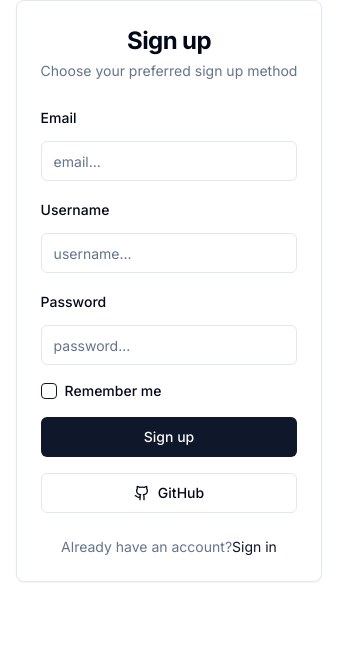
Test: SignUp › shows error message on valid submit, but no user is found
In the field labelled "Email": x=169, y=161 [41,141,297,181], type "test@gmail.com"
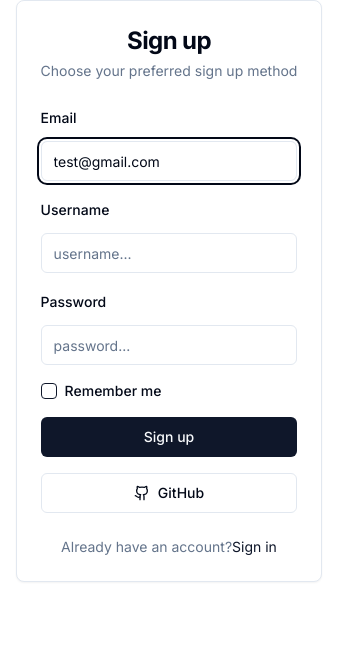
In the field labelled "Username": x=169, y=253 [41,233,297,273], type "test-username"
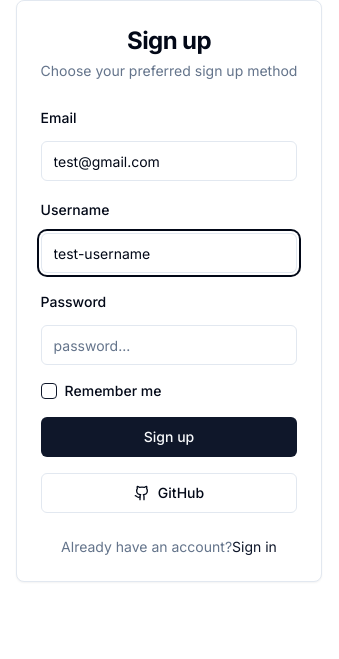
In the password field labelled "Password": x=169, y=345 [41,325,297,365], type "testPass"
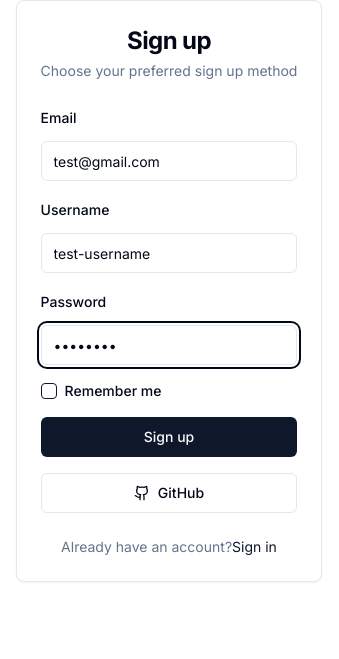
Click the checkbox named "Remember me": x=49, y=391 [41,383,57,399]
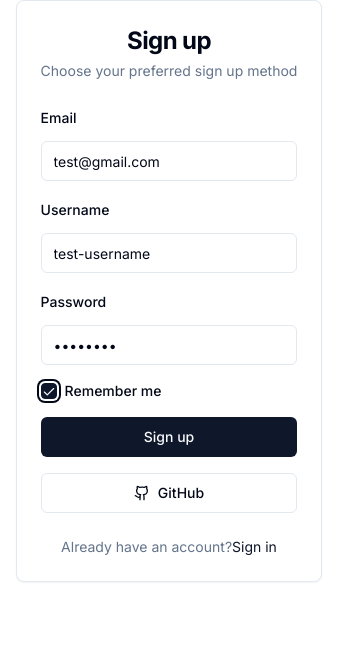
Click the button "Sign up": x=169, y=437 [41,417,297,457]
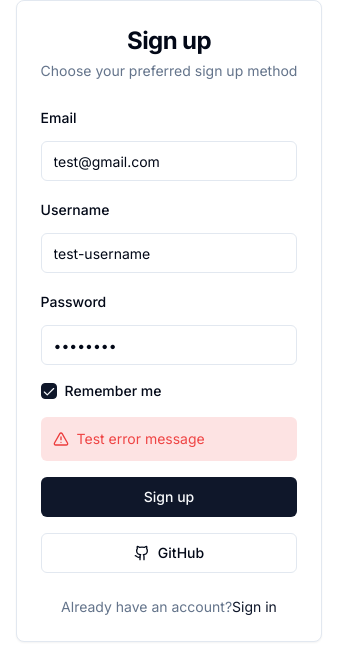
Expected: the text "Test error message" is shown, [41,417,297,461]
